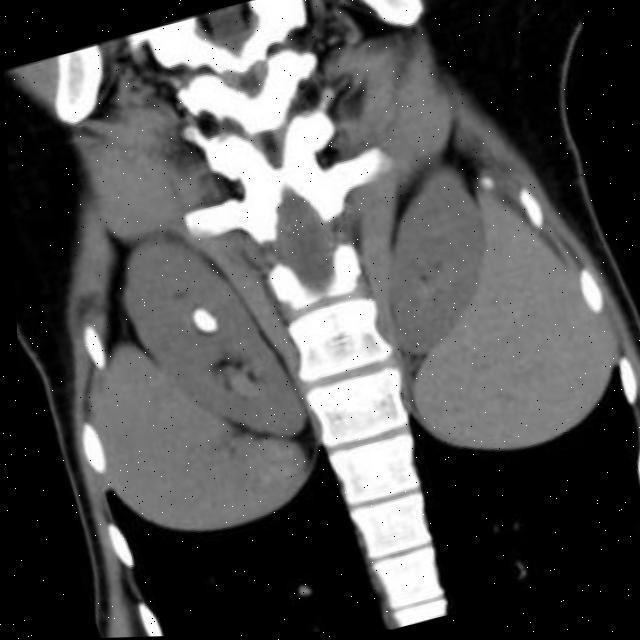Tas_Var: (181, 299, 226, 343)
